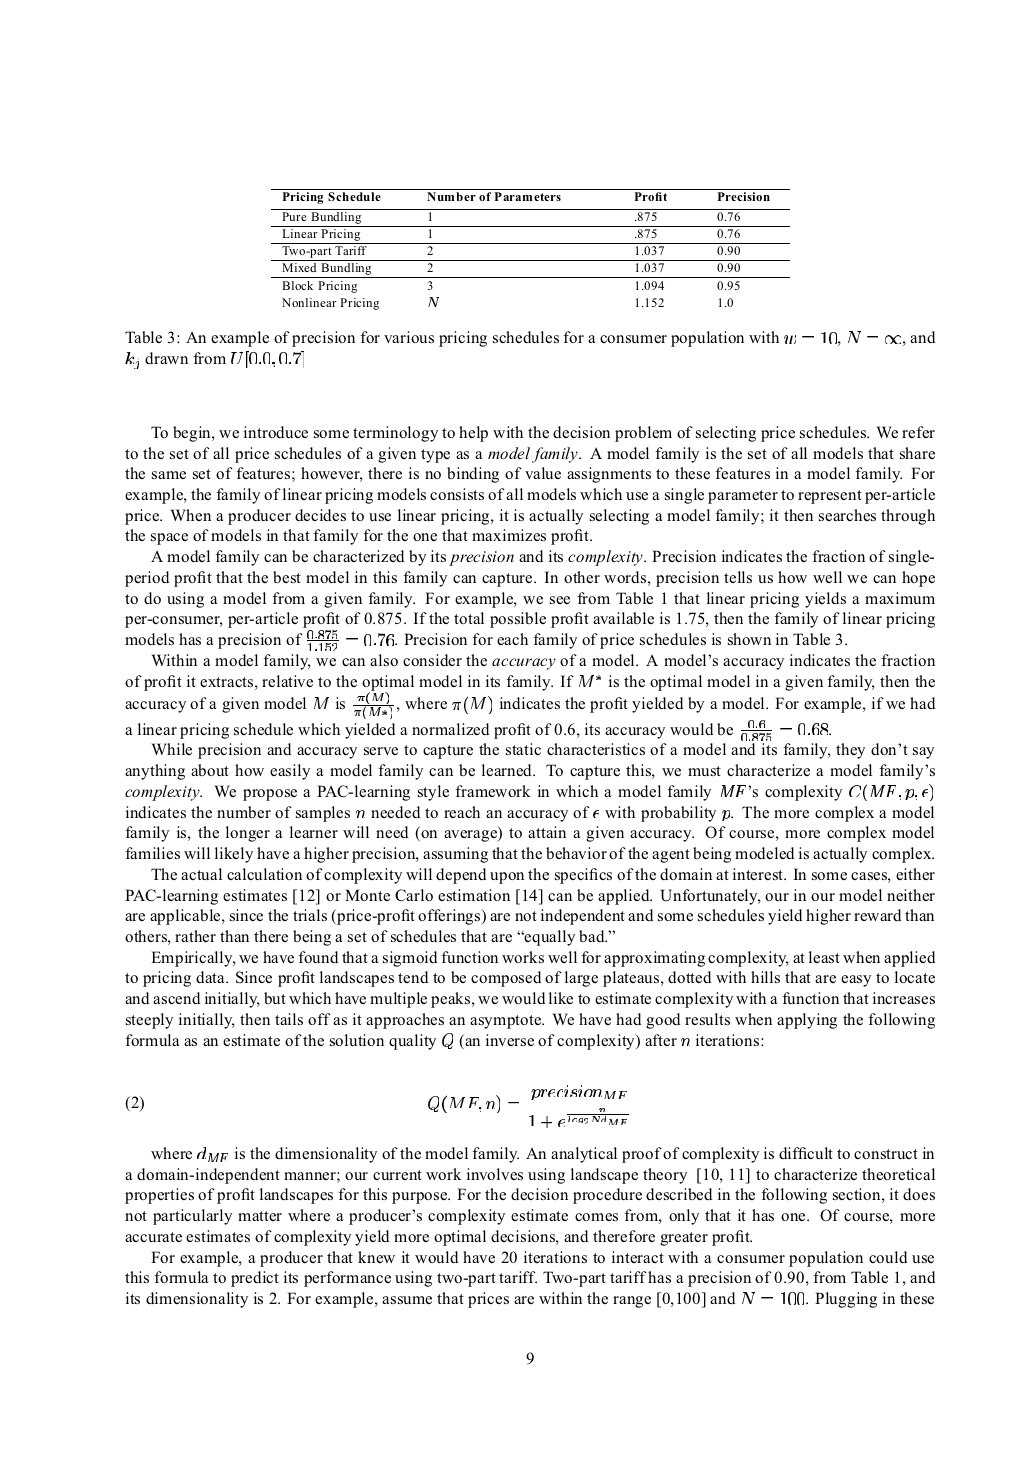Table: (271, 189, 789, 309)
formula: (125, 1088, 628, 1128)
